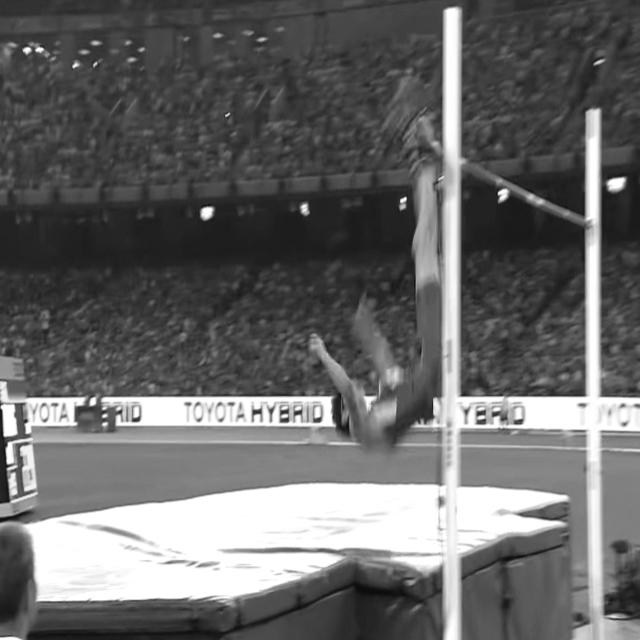land: (307, 100, 442, 450)
